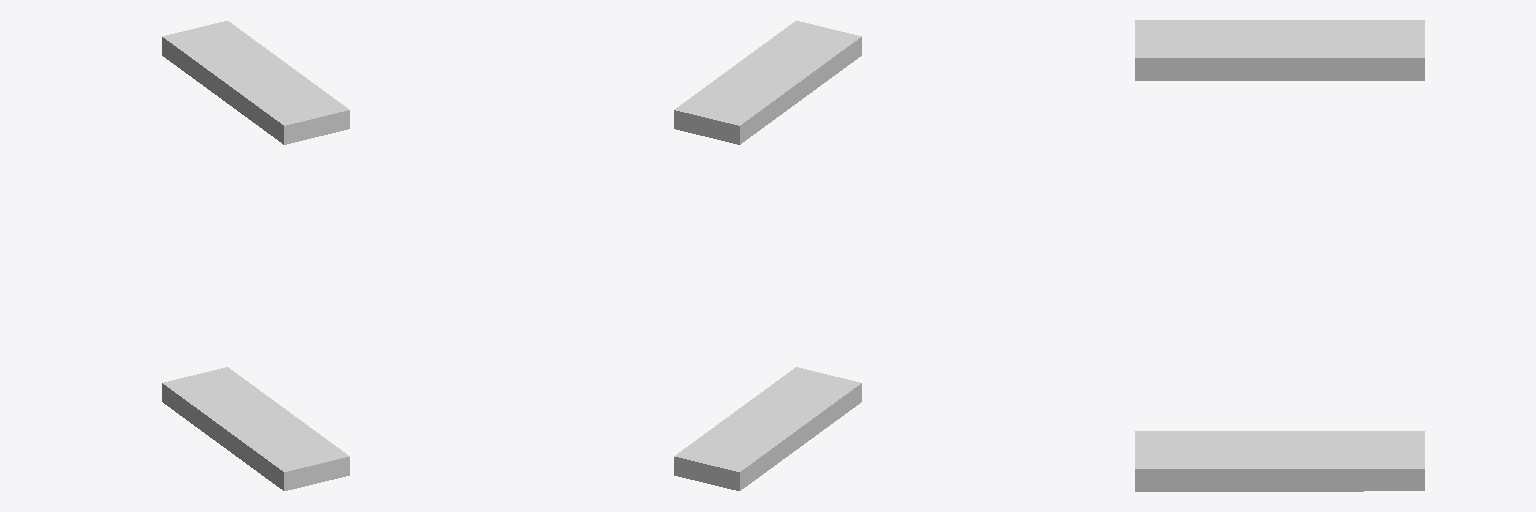
robot.urdf — ur5:
<?xml version="1.0" ?>
<!-- =================================================================================== -->
<!-- |    This document was autogenerated by xacro from ur5_robot.urdf.xacro           | -->
<!-- |    EDITING THIS FILE BY HAND IS NOT RECOMMENDED                                 | -->
<!-- =================================================================================== -->
<robot name="ur5" xmlns:xacro="http://ros.org/wiki/xacro">
  <!-- measured from model -->
  <!--property name="shoulder_height" value="0.089159" /-->
  <!--property name="shoulder_offset" value="0.13585" /-->
  <!-- shoulder_offset - elbow_offset + wrist_1_length = 0.10915 -->
  <!--property name="upper_arm_length" value="0.42500" /-->
  <!--property name="elbow_offset" value="0.1197" /-->
  <!-- CAD measured -->
  <!--property name="forearm_length" value="0.39225" /-->
  <!--property name="wrist_1_length" value="0.093" /-->
  <!-- CAD measured -->
  <!--property name="wrist_2_length" value="0.09465" /-->
  <!-- In CAD this distance is 0.930, but in the spec it is 0.09465 -->
  <!--property name="wrist_3_length" value="0.0823" /-->
  <!-- manually measured -->
  <!-- Arm Links -->
  <link name="base_link">
    <visual name="base_link_visual">
      <geometry>
        <mesh filename="meshes/ur5/visual/base.dae"/>
      </geometry>
    </visual>
    <collision name="base_link_collision">
      <geometry>
        <mesh filename="meshes/ur5/collision/base.stl"/>
      </geometry>
    </collision>
  </link>

  <link name="shoulder_link">
    <visual name="shoulder_link_visual">
      <geometry>
        <mesh filename="meshes/ur5/visual/shoulder.dae"/>
      </geometry>
    </visual>
    <collision name="shoulder_link_collision">
      <geometry>
        <mesh filename="meshes/ur5/collision/shoulder.stl"/>
      </geometry>
    </collision>
  </link>

  <link name="upper_arm_link">
    <visual name="upper_arm_link_visual">
      <geometry>
        <mesh filename="meshes/ur5/visual/upperarm.dae"/>
      </geometry>
    </visual>
    <collision name="upper_arm_link_collision">
      <geometry>
        <mesh filename="meshes/ur5/collision/upperarm.stl"/>
      </geometry>
    </collision>
  </link>

  <link name="forearm_link">
    <visual name="forearm_link_visual">
      <geometry>
        <mesh filename="meshes/ur5/visual/forearm.dae"/>
      </geometry>
    </visual>
    <collision name="forearm_link_collision">
      <geometry>
        <mesh filename="meshes/ur5/collision/forearm.stl"/>
      </geometry>
    </collision>
  </link>

  <link name="wrist_1_link">
    <visual name="wrist_1_link_visual">
      <geometry>
        <mesh filename="meshes/ur5/visual/wrist1.dae"/>
      </geometry>
    </visual>
    <collision name="wrist_1_link_collision">
      <geometry>
        <mesh filename="meshes/ur5/collision/wrist1.stl"/>
      </geometry>
    </collision>
  </link>

  <link name="wrist_2_link">
    <visual name="wrist_2_link_visual">
      <geometry>
        <mesh filename="meshes/ur5/visual/wrist2.dae"/>
      </geometry>
    </visual>
    <collision name="wrist_2_link_collision">
      <geometry>
        <mesh filename="meshes/ur5/collision/wrist2.stl"/>
      </geometry>
    </collision>
  </link>

  <link name="wrist_3_link">
    <visual name="wrist_3_link_visual">
      <geometry>
        <mesh filename="meshes/ur5/visual/wrist3.dae"/>
      </geometry>
    </visual>
    <collision name="wrist_3_link_collision">
      <geometry>
        <mesh filename="meshes/ur5/collision/wrist3.stl"/>
      </geometry>
    </collision>
  </link>


  <!-- Arm Joints -->
  <joint name="shoulder_pan_joint" type="revolute">
    <parent link="base_link"/>
    <child link="shoulder_link"/>
    <origin xyz="0 0 0.089159" rpy="0 0 0"/>
    <axis xyz="0 0 1"/>
    <limit lower="-6.28319" upper="6.28319" effort="150.0" velocity="3.15"/>
  </joint>

  <joint name="shoulder_lift_joint" type="revolute">
    <parent link="shoulder_link"/>
    <child link="upper_arm_link"/>
    <origin xyz="0 0.13585 0" rpy="0 0 0"/>
    <axis xyz="0 1 0"/>
    <limit lower="-6.28319" upper="6.28319" effort="150.0" velocity="3.15"/>
  </joint>

  <joint name="elbow_joint" type="revolute">
    <parent link="upper_arm_link"/>
    <child link="forearm_link"/>
    <origin xyz="0 -0.1197 0.425" rpy="0 0 0"/>
    <axis xyz="0 1 0"/>
    <limit lower="-6.28319" upper="6.28319" effort="150.0" velocity="3.15"/>
  </joint>

  <joint name="wrist_1_joint" type="revolute">
    <parent link="forearm_link"/>
    <child link="wrist_1_link"/>
    <origin xyz="0 0 0.39225" rpy="0 0 0"/>
    <axis xyz="0 1 0"/>
    <limit lower="-6.28319" upper="6.28319" effort="28.0" velocity="3.2"/>
  </joint>

  <joint name="wrist_2_joint" type="revolute">
    <parent link="wrist_1_link"/>
    <child link="wrist_2_link"/>
    <origin xyz="0 0.093 0" rpy="0 0 0"/>
    <axis xyz="0 0 1"/>
    <limit lower="-6.28319" upper="6.28319" effort="28.0" velocity="3.2"/>
  </joint>

  <joint name="wrist_3_joint" type="revolute">
    <parent link="wrist_2_link"/>
    <child link="wrist_3_link"/>
    <origin xyz="0 0 0.09465" rpy="0 0 0"/>
    <axis xyz="0 1 0"/>
    <limit lower="-6.28319" upper="6.28319" effort="28.0" velocity="3.2"/>
  </joint>


  <!-- Arm-Hand Fixed Joint -->

  <joint name="ee_fixed_joint" type="fixed"> 
    <parent link="wrist_3_link"/>
    <child link="ee_link"/>
    <axis xyz="0 0 1"/>
    <origin rpy="0 0 3.141592653589793" xyz="0.0 0.0823 0.0"/> 
  </joint>

  <link name="ee_link">
    <inertial>
      <origin xyz="8.625E-08 -4.6583E-06 0.03145" rpy="0 0 0" />
      <mass value="0.22652" />
      <inertia ixx="0.00020005" ixy="-4.2442E-10" ixz="-2.9069E-10" iyy="0.00017832" iyz="-3.4402E-08" izz="0.00013478" />
    </inertial>
    <visual>
      <origin xyz="0 0 0" rpy="0 0 0" />
      <geometry>
        <mesh filename="meshes/robotiq_2f_140/visual/robotiq_arg2f_base_link.stl" />
      </geometry>
      <material name="">
        <color rgba="0.9 0.1 0.1 1" />
      </material>
    </visual>
    <collision>
      <origin xyz="0.0 0.0 0.0" rpy="1.57079632678995 0 0" />
      <geometry>
        <mesh filename="meshes/robotiq_2f_140/collision/robotiq_arg2f_base_link.stl" />
      </geometry>
    </collision>
  </link>

  <link name="left_inner_knuckle">
    <inertial>
      <origin xyz="0.000123011831763771 0.0507850843201817 0.00103968640075166" rpy="0 0 0" />
      <mass value="0.0271177346495152" />
      <inertia
          ixx="2.61910379223783E-05"
          ixy="-2.43616858946494E-07"
          ixz="-6.37789906117123E-09"
          iyy="2.8270243746167E-06"
          iyz="-5.37200748039765E-07"
          izz="2.83695868220296E-05" />
    </inertial>
    <visual>
      <origin xyz="0 0 0" rpy="0 0 0" />
      <geometry>
        <mesh filename="meshes/robotiq_2f_140/visual/robotiq_arg2f_140_inner_knuckle.stl" />
      </geometry>
      <material name="">
        <color rgba="0.1 0.1 0.1 1" />
      </material>
    </visual>
    <collision>
      <origin xyz="0 0 -0.025" rpy="1.57079632678995 0 0" />
      <geometry>
        <mesh filename="meshes/robotiq_2f_140/collision/robotiq_arg2f_140_inner_knuckle.stl" />
      </geometry>
    </collision>
  </link> 

  <link name="right_inner_knuckle">
    <inertial>
      <origin xyz="0.000123011831763771 0.0507850843201817 0.00103968640075166" rpy="0 0 0" />
      <mass value="0.0271177346495152" />
      <inertia
          ixx="2.61910379223783E-05"
          ixy="-2.43616858946494E-07"
          ixz="-6.37789906117123E-09"
          iyy="2.8270243746167E-06"
          iyz="-5.37200748039765E-07"
          izz="2.83695868220296E-05" />
    </inertial>
    <visual>
      <origin xyz="0 0 0" rpy="0 0 0" />
      <geometry>
        <mesh filename="meshes/robotiq_2f_140/visual/robotiq_arg2f_140_inner_knuckle.stl" />
      </geometry>
      <material name="">
        <color rgba="0.1 0.1 0.1 1" />
      </material>
    </visual>
    <collision>
      <origin xyz="0 0 -0.025" rpy="1.57079632678995 0 0" />
      <geometry>
        <mesh filename="meshes/robotiq_2f_140/collision/robotiq_arg2f_140_inner_knuckle.stl" />
      </geometry>
    </collision>
  </link>

  <joint name="left_inner_knuckle_joint" type="revolute">
    <origin xyz="0 -0.06142 -0.0127" rpy="2.2957963267948965 0 0" />
    <parent link="ee_link" />
    <child link="left_inner_knuckle" />
    <axis xyz="1 0 0" />
    <limit lower="-0.5757" upper="0.5757" velocity="2.0" effort="1000" />
    <mimic joint="finger_joint" multiplier="-1" offset="0" />
  </joint>

  <joint name="right_inner_knuckle_joint" type="revolute">
    <origin xyz="0 -0.06142 0.0127" rpy="-2.2957963267948965 3.141592653589793 -3.141592653589793" />
    <parent link="ee_link" />
    <child link="right_inner_knuckle" />
    <axis xyz="1 0 0" />
    <limit lower="-0.5757" upper="0.5757" velocity="2.0" effort="1000" />
    <mimic joint="finger_joint" multiplier="1" offset="0" />
  </joint> 

  <link name="left_outer_knuckle">
    <inertial>
      <origin xyz="-0.000200000000003065 0.0199435877845359 0.0292245259211331" rpy="0 0 0" />
      <mass value="0.00853198276973456" />
      <inertia
          ixx="2.89328108496468E-06"
          ixy="-1.57935047237397E-19"
          ixz="-1.93980378593255E-19"
          iyy="1.86719750325683E-06"
          iyz="-1.21858577871576E-06"
          izz="1.21905238907251E-06" />
    </inertial>
    <visual>
      <origin xyz="0 0 0" rpy="0 0 0" />
      <geometry>
        <mesh filename="meshes/robotiq_2f_140/visual/robotiq_arg2f_140_outer_knuckle.stl" />
      </geometry>
      <material name="">
        <color rgba="0.792156862745098 0.819607843137255 0.933333333333333 1" />
      </material>
    </visual>
    <collision>
      <origin xyz="0 0 0" rpy="1.57079632678995 0 0" />
      <geometry>
        <mesh filename="meshes/robotiq_2f_140/collision/robotiq_arg2f_140_outer_knuckle.stl" />
      </geometry>
    </collision>
  </link>

  <link name="right_outer_knuckle">
    <inertial>
      <origin xyz="-0.000200000000003065 0.0199435877845359 0.0292245259211331" rpy="0 0 0" />
      <mass value="0.00853198276973456" />
      <inertia
          ixx="2.89328108496468E-06"
          ixy="-1.57935047237397E-19"
          ixz="-1.93980378593255E-19"
          iyy="1.86719750325683E-06"
          iyz="-1.21858577871576E-06"
          izz="1.21905238907251E-06" />
    </inertial>
    <visual>
      <origin xyz="0 0 0" rpy="0 0 0" />
      <geometry>
        <mesh filename="meshes/robotiq_2f_140/visual/robotiq_arg2f_140_outer_knuckle.stl" />
      </geometry>
      <material name="">
        <color rgba="0.792156862745098 0.819607843137255 0.933333333333333 1" />
      </material>
    </visual>
    <collision>
      <origin xyz="0 0 0" rpy="1.57079632678995 0 0" />
      <geometry>
        <mesh filename="meshes/robotiq_2f_140/collision/robotiq_arg2f_140_outer_knuckle.stl" />
      </geometry>
    </collision>
  </link>

  <joint name="finger_joint" type="revolute">
    <origin xyz="0 -0.054905 -0.030601" rpy="2.2957963267948965 0 0" />
    <parent link="ee_link" />
    <child link="left_outer_knuckle" />
    <axis xyz="-1 0 0" />
    <limit lower="-0.725" upper="0.725" velocity="2.0" effort="1000" />
  </joint>

  <joint name="right_outer_knuckle_joint" type="revolute">
    <origin xyz="0 -0.054905 0.030601" rpy="-0.8457 0 -3.141592653589793" />
    <parent link="ee_link" />
    <child link="right_outer_knuckle" />
    <axis xyz="1 0 0" />
    <limit lower="-0.725" upper="0.725" velocity="2.0" effort="1000" />
    <mimic joint="finger_joint" multiplier="-1" offset="0" />
  </joint>

  <link name="left_outer_finger">
    <inertial>
      <origin xyz="0.00030115855001899 0.0373907951953854 -0.0208027427000385" rpy="0 0 0" />
      <mass value="0.022614240507152" />
      <inertia
          ixx="1.52518312458174E-05"
          ixy="9.76583423954399E-10"
          ixz="-5.43838577022588E-10"
          iyy="6.17694243867776E-06"
          iyz="6.78636130740228E-06"
          izz="1.16494917907219E-05" />
    </inertial>
    <visual>
      <origin xyz="0 0 0" rpy="0 0 0" />
      <geometry>
        <mesh filename="meshes/robotiq_2f_140/visual/robotiq_arg2f_140_outer_finger.stl" />
      </geometry>
      <material name="">
        <color rgba="0.1 0.1 0.1 1" />
      </material>
    </visual>
    <collision>
      <origin xyz="0 0 0" rpy="1.57079632678995 0 0" />
      <geometry>
        <mesh filename="meshes/robotiq_2f_140/collision/robotiq_arg2f_140_outer_finger.stl" />
      </geometry>
    </collision>
  </link>

  <link name="right_outer_finger">
    <inertial>
      <origin xyz="0.00030115855001899 0.0373907951953854 -0.0208027427000385" rpy="0 0 0" />
      <mass value="0.022614240507152" />
      <inertia
          ixx="1.52518312458174E-05"
          ixy="9.76583423954399E-10"
          ixz="-5.43838577022588E-10"
          iyy="6.17694243867776E-06"
          iyz="6.78636130740228E-06"
          izz="1.16494917907219E-05" />
    </inertial>
    <visual>
      <origin xyz="0 0 0" rpy="0 0 0" />
      <geometry>
        <mesh filename="meshes/robotiq_2f_140/visual/robotiq_arg2f_140_outer_finger.stl" />
      </geometry>
      <material name="">
        <color rgba="0.1 0.1 0.1 1" />
      </material>
    </visual>
    <collision>
      <origin xyz="0 0 0" rpy="1.57079632678995 0 0" />
      <geometry>
        <mesh filename="meshes/robotiq_2f_140/collision/robotiq_arg2f_140_outer_finger.stl" />
      </geometry>
    </collision>
  </link>

  <joint name="left_outer_finger_joint" type="fixed">
    <origin xyz="0 -0.0260018192872234 0.01821998610742" rpy="0 0 0" />
    <parent link="left_outer_knuckle" />
    <child link="left_outer_finger" />
    <axis xyz="1 0 0" />
  </joint>

  <joint name="right_outer_finger_joint" type="fixed">
    <origin xyz="0 -0.0260018192872234 0.01821998610742" rpy="0 0 0" />
    <parent link="right_outer_knuckle" />
    <child link="right_outer_finger" />
    <axis xyz="1 0 0" />
  </joint>

  <link name="left_inner_finger">
    <inertial>
      <origin xyz="0.000299999999999317 0.0160078233491243 -0.0136945669206257" rpy="0 0 0" />
      <mass value="0.0104003125914103" />
      <inertia
          ixx="2.71909453810972E-06"
          ixy="1.35402465472579E-21"
          ixz="-7.1817349065269E-22"
          iyy="7.69100314106116E-07"
          iyz="6.74715432769696E-07"
          izz="2.30315190420171E-06" />
    </inertial>
    <visual>
      <origin xyz="0 0 0" rpy="0 0 0" />
      <geometry>
        <mesh filename="meshes/robotiq_2f_140/visual/robotiq_arg2f_140_inner_finger.stl" />
      </geometry>
      <material name="">
        <color rgba="0.1 0.1 0.1 1" />
      </material>
    </visual>
    <collision>
      <origin xyz="0 0 0" rpy="1.57079632678995 0 0" />
      <geometry>
        <mesh filename="meshes/robotiq_2f_140/collision/robotiq_arg2f_140_inner_finger.stl" />
      </geometry>
    </collision>
  </link>

  <link name="right_inner_finger">
    <inertial>
      <origin xyz="0.000299999999999317 0.0160078233491243 -0.0136945669206257" rpy="0 0 0" />
      <mass value="0.0104003125914103" />
      <inertia
          ixx="2.71909453810972E-06"
          ixy="1.35402465472579E-21"
          ixz="-7.1817349065269E-22"
          iyy="7.69100314106116E-07"
          iyz="6.74715432769696E-07"
          izz="2.30315190420171E-06" />
    </inertial>
    <visual>
      <origin xyz="0 0 0" rpy="0 0 0" />
      <geometry>
        <mesh filename="meshes/robotiq_2f_140/visual/robotiq_arg2f_140_inner_finger.stl" />
      </geometry>
      <material name="">
        <color rgba="0.1 0.1 0.1 1" />
      </material>
    </visual>
    <collision>
      <origin xyz="0 0 0" rpy="1.57079632678995 0 0" />
      <geometry>
        <mesh filename="meshes/robotiq_2f_140/collision/robotiq_arg2f_140_inner_finger.stl" />
      </geometry>
    </collision>
  </link>

  <joint name="left_inner_finger_joint" type="revolute">
    <origin xyz="0 0.0282203446692936 0.0817554015893473" rpy="-0.725 0 0" />
    <parent link="left_outer_finger" />
    <child link="left_inner_finger" />
    <axis xyz="1 0 0" />
    <limit lower="-0.5757" upper="0.5757" velocity="2.0" effort="1000" />
    <mimic joint="finger_joint" multiplier="1" offset="0" />
  </joint>

  <joint name="right_inner_finger_joint" type="revolute">
    <origin xyz="0 0.0282203446692936 0.0817554015893473" rpy="-0.725 0 0" />
    <parent link="right_outer_finger" />
    <child link="right_inner_finger" />
    <axis xyz="1 0 0" />
    <limit lower="-0.5757" upper="0.5757" velocity="2.0" effort="1000" />
    <mimic joint="finger_joint" multiplier="1" offset="0" />
  </joint>

  <link name="left_inner_finger_pad">
    <visual>
      <origin xyz="0 0 0" rpy="0 0 0" />
      <geometry>
        <box size="0.027 0.087 0.0075"/>
      </geometry>
      <material name="">
        <color rgba="0.9 0.9 0.9 1" />
      </material>
    </visual>
    <collision>
      <origin xyz="0 0 0" rpy="0 0 0" />
      <geometry>
        <box size="0.027 0.087 0.0075"/>
      </geometry>
      <material name="">
        <color rgba="0.9 0.0 0.0 1" />
      </material>
    </collision>
  </link>
  <link name="right_inner_finger_pad">
    <visual>
      <origin xyz="0 0 0" rpy="0 0 0" />
      <geometry>
        <box size="0.027 0.087 0.0075"/>
      </geometry>
      <material name="">
        <color rgba="0.9 0.9 0.9 1" />
      </material>
    </visual>
    <collision>
      <origin xyz="0 0 0" rpy="0 0 0" />
      <geometry>
        <box size="0.027 0.087 0.0075"/>
      </geometry>
      <material name="">
        <color rgba="0.9 0.0 0.0 1" />
      </material>
    </collision>
  </link>

  <joint name="left_inner_finger_pad_joint" type="fixed">
    <origin xyz="0 0.0272203446692936 0.0457554015893473" rpy="1.5707 0 0" />
    <parent link="left_inner_finger" />
    <child link="left_inner_finger_pad" />
    <axis xyz="0 0 1" />
  </joint>
  <joint name="right_inner_finger_pad_joint" type="fixed">
    <origin xyz="0 0.0272203446692936 0.0457554015893473" rpy="1.5707 0 0" />
    <parent link="right_inner_finger" />
    <child link="right_inner_finger_pad" />
    <axis xyz="0 0 1" />
  </joint>

</robot>

--- What the picture shows (computed from the rendered views, not written in the file) ---
The picture shows the robot from 3 angles, left to right: view 1: azimuth 30°, elevation 25°; view 2: azimuth 150°, elevation 25°; view 3: azimuth 270°, elevation 25°; orthographic projection.
Model ur5 with 18 links and 17 joints (12 revolute, 5 fixed), rooted at base_link, posed every joint at zero.
Links seen in each view (by area): view 1: right_inner_finger_pad, left_inner_finger_pad; view 2: right_inner_finger_pad, left_inner_finger_pad; view 3: right_inner_finger_pad, left_inner_finger_pad.
Boxes of the visible links, x1,y1,x2,y2 form: right_inner_finger_pad: (162, 21, 349, 144); left_inner_finger_pad: (162, 367, 349, 490); right_inner_finger_pad: (674, 21, 861, 144); left_inner_finger_pad: (674, 367, 861, 490); right_inner_finger_pad: (1135, 20, 1424, 80); left_inner_finger_pad: (1135, 431, 1424, 491).
Bounding box of the posed robot: 0.027 × 0.087 × 0.1436 m (x, y, z).
0 mesh visuals loaded from 12 distinct referenced files (none loaded); not drawn: 16 (reference not matched to a file when rendering).